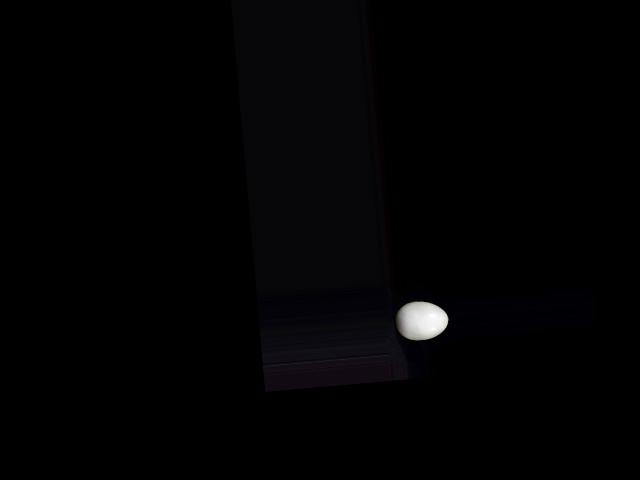egg: (393, 299, 449, 342)
